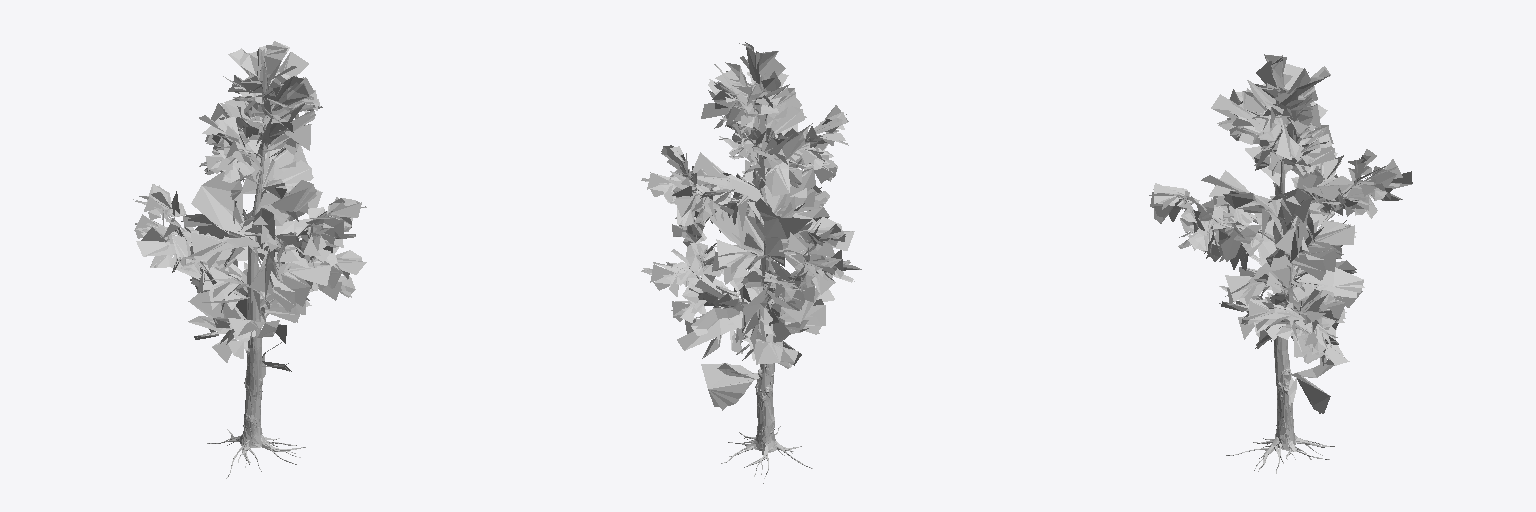
The model's file is poplar.obj.
The picture shows the model from 3 angles: view 1: azimuth 30°, elevation 25°; view 2: azimuth 150°, elevation 25°; view 3: azimuth 270°, elevation 25°; orthographic projection.
Visible parts, largest first — view 1: 06_Poplar_skan_Poplar_06_leaves_LOD0; view 2: 06_Poplar_skan_Poplar_06_leaves_LOD0; view 3: 06_Poplar_skan_Poplar_06_leaves_LOD0.
Part boxes in pixels (x1,y1,x2,y2): 06_Poplar_skan_Poplar_06_leaves_LOD0: (133,41,366,478); 06_Poplar_skan_Poplar_06_leaves_LOD0: (641,42,861,483); 06_Poplar_skan_Poplar_06_leaves_LOD0: (1149,54,1412,473).
Size of the model in its own units: 13.1 by 25.21 by 14.48.